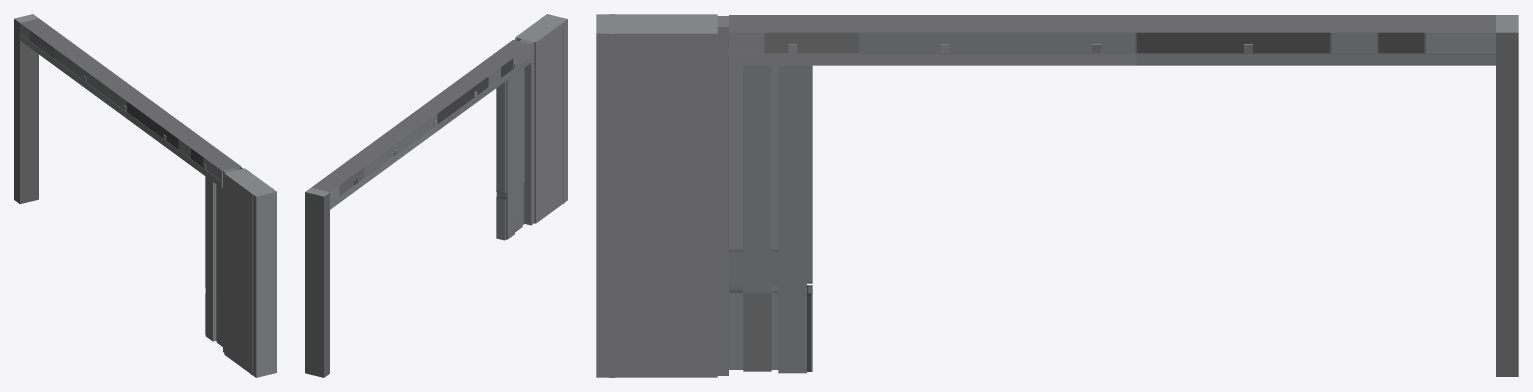
3 renders of one model, left to right at view 1: azimuth 30°, elevation 25°; view 2: azimuth 150°, elevation 25°; view 3: azimuth 270°, elevation 25°, orthographic. The views are drawn at different scales.
Bounding box in the file's own units: 0.124 × 1 × 2.43.
